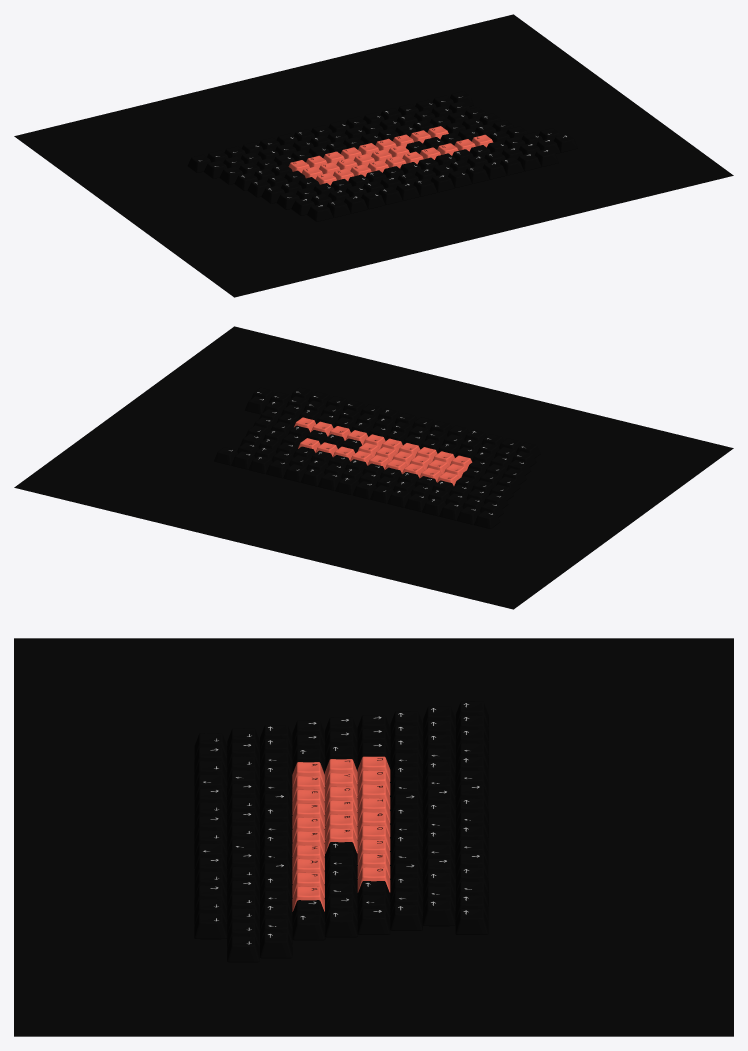
The model's file is hero_block.glb.
3 views of the same model, one above another, from view 1: azimuth 30°, elevation 25°; view 2: azimuth 150°, elevation 25°; view 3: azimuth 270°, elevation 25° (orthographic). The views are drawn at different scales.
Parts seen in each view (by area): view 1: Plane.001; view 2: Plane.001; view 3: Plane.001, Cube.270, Cube.169, Cube.175, Cube.173, Cube.273, Cube.190, Cube.220, Cube.263, Cube.274.
Boxes of the visible parts, x1,y1,x2,y2 form: Plane.001: (14, 14, 733, 297); Plane.001: (14, 326, 733, 609); Plane.001: (14, 638, 733, 1036); Cube.270: (259, 932, 292, 958); Cube.169: (357, 908, 390, 934); Cube.175: (292, 914, 325, 940); Cube.173: (325, 911, 357, 937); Cube.273: (227, 936, 259, 962); Cube.190: (390, 904, 422, 930); Cube.220: (423, 900, 455, 926); Cube.263: (194, 913, 226, 939); Cube.274: (455, 908, 488, 934).
Size of the model in its own units: 60.21 by 1.22 by 46.01.
18 materials, 17 textured.
